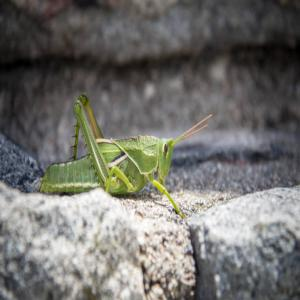locust: (40, 81, 205, 218)
